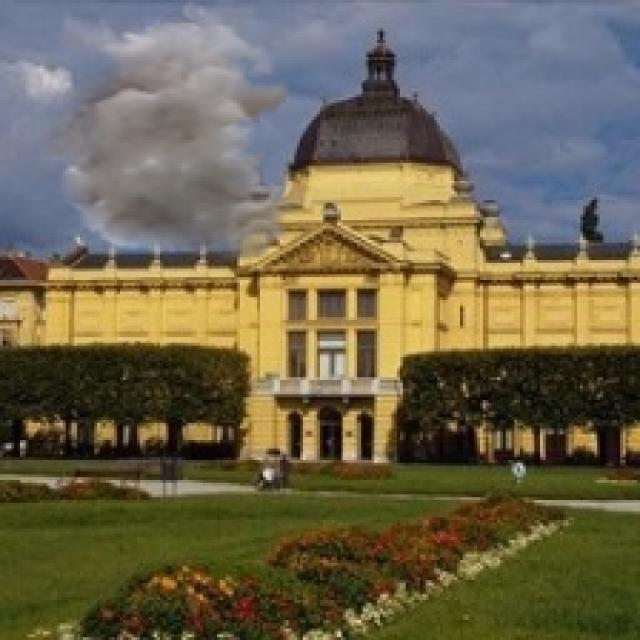Smoke: (29, 20, 298, 263)
